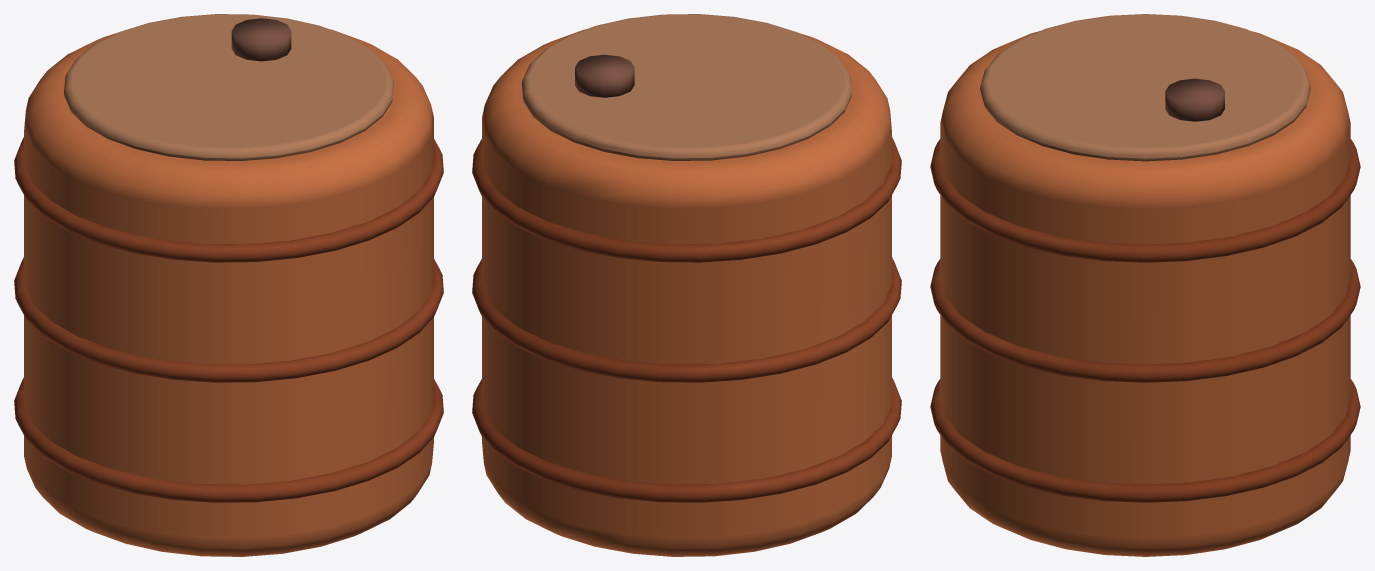
Rendered from prop_barrel.glb.
3 views of the same model, side by side, from view 1: azimuth 30°, elevation 25°; view 2: azimuth 150°, elevation 25°; view 3: azimuth 270°, elevation 25° (orthographic).
Parts seen in each view (by area): view 1: body, lid, hoop6, hoop10, hoop2, cap; view 2: body, lid, hoop6, hoop10, hoop2, cap; view 3: body, lid, hoop6, hoop2, hoop10, cap.
Boxes of the visible parts, x1=… form: body: x1=24, y1=29, x2=433, y2=556; lid: x1=64, y1=14, x2=393, y2=160; hoop6: x1=14, y1=257, x2=443, y2=382; hoop10: x1=14, y1=137, x2=443, y2=262; hoop2: x1=14, y1=377, x2=443, y2=502; cap: x1=231, y1=18, x2=291, y2=61; body: x1=482, y1=29, x2=891, y2=556; lid: x1=522, y1=14, x2=851, y2=160; hoop6: x1=472, y1=257, x2=901, y2=382; hoop10: x1=472, y1=137, x2=901, y2=262; hoop2: x1=472, y1=377, x2=901, y2=502; cap: x1=575, y1=54, x2=634, y2=97; body: x1=940, y1=31, x2=1350, y2=556; lid: x1=980, y1=14, x2=1310, y2=161; hoop6: x1=930, y1=259, x2=1360, y2=382; hoop2: x1=930, y1=379, x2=1360, y2=502; hoop10: x1=930, y1=139, x2=1360, y2=262; cap: x1=1165, y1=78, x2=1224, y2=121.
Size of what is drawn, in the model's own units: 1.3 by 1.4 by 1.3.
